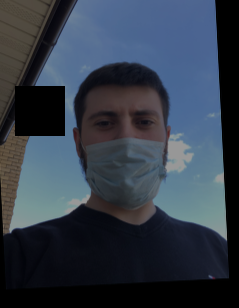with_mask: (84, 101, 166, 210)
